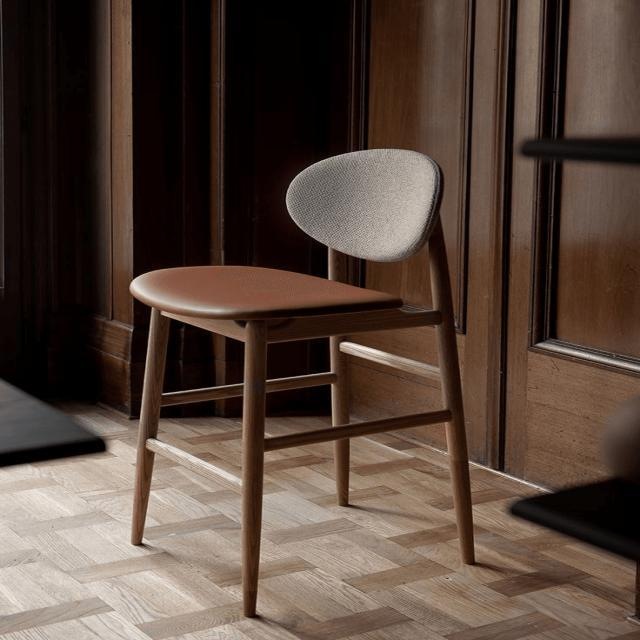chair: (126, 142, 488, 620)
